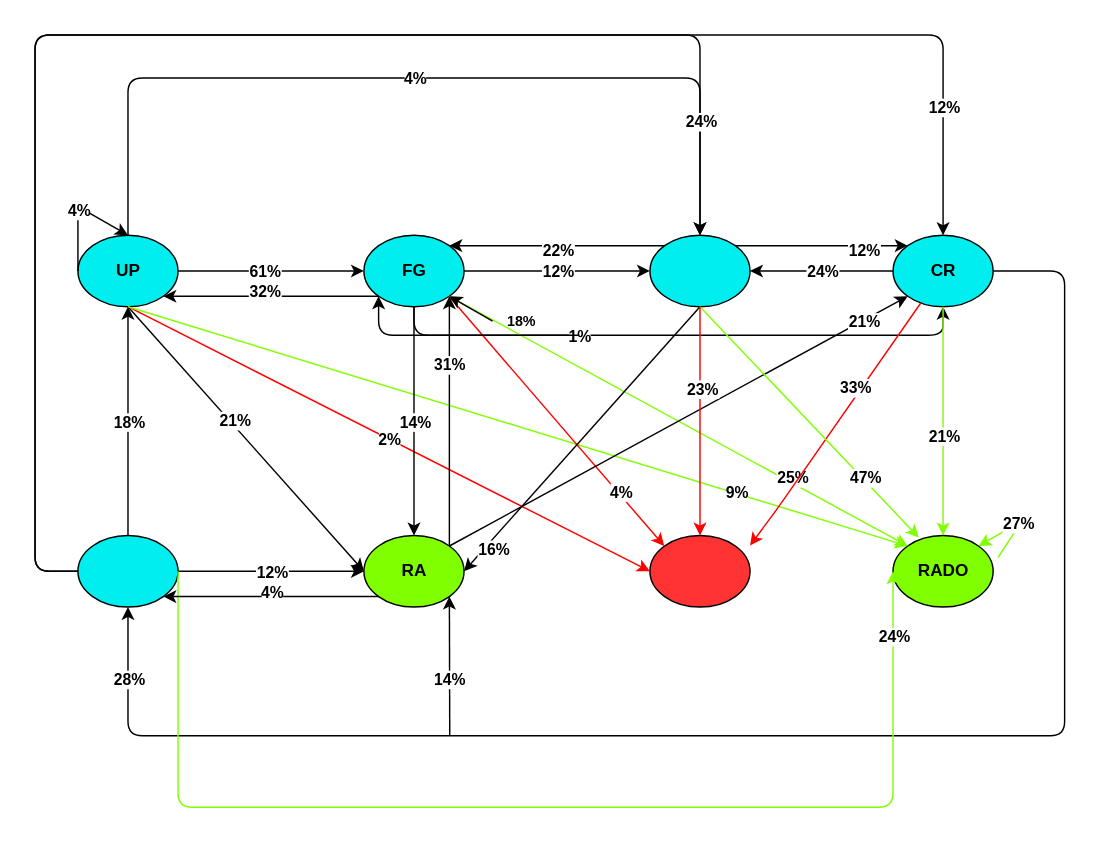
This 1101x844 diagram has some shape labels left out. Each missing label, with the centre of its shape:
EV: point 127,570
GS: point 699,270
REDO: point 699,570
